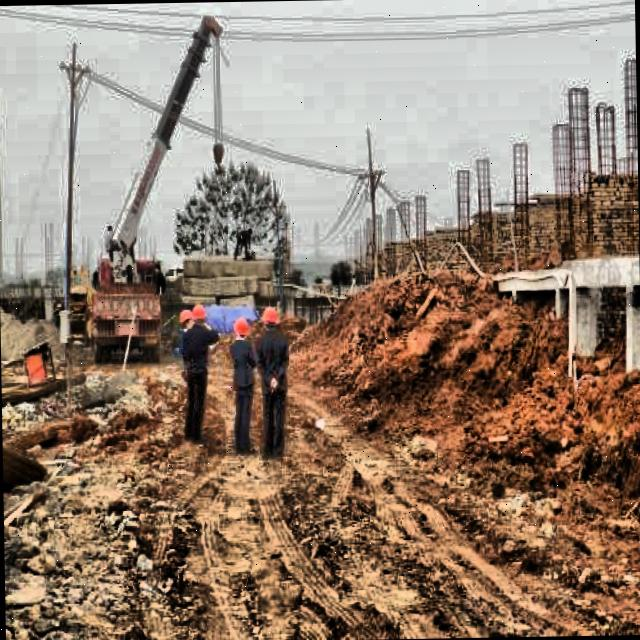helmet: (256, 303, 280, 332), (178, 306, 194, 339), (233, 312, 250, 343), (192, 299, 208, 330)
